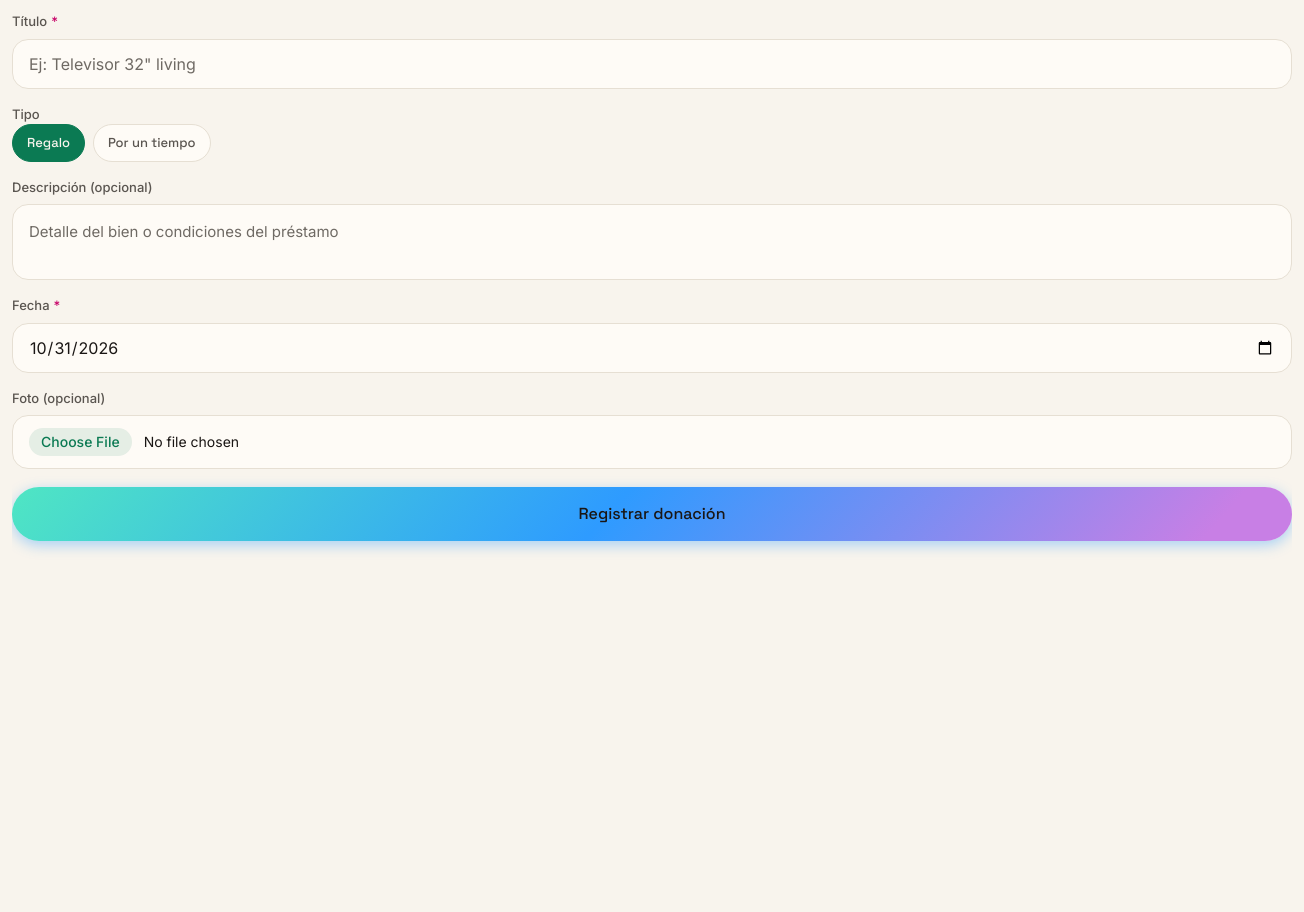
Test: DonacionForm › shows optional prestamo date fields only for por un tiempo
The width and height of the screenshot is (1304, 912).
Expected: the field labelled "desde" is not shown
What coordinates should you click on to do the following:
click the radio button labelled "Por un tiempo"
I would click on:
 (152, 143)
Its box is x1=93 y1=124 x2=211 y2=162.
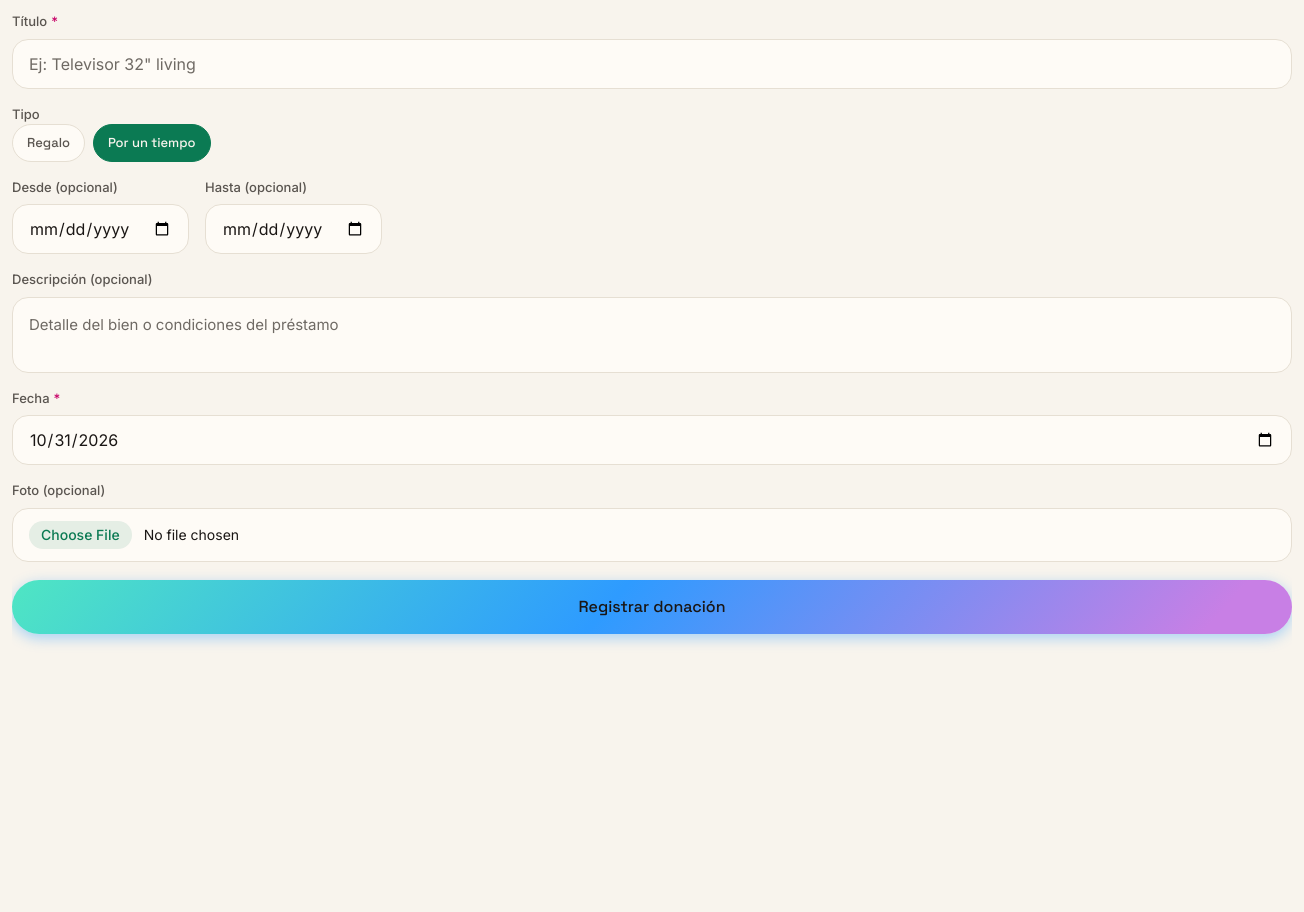
Now the date field labelled "Desde (opcional)" is shown, box x1=12 y1=204 x2=189 y2=254
Now the date field labelled "Hasta (opcional)" is shown, box x1=205 y1=204 x2=382 y2=254
